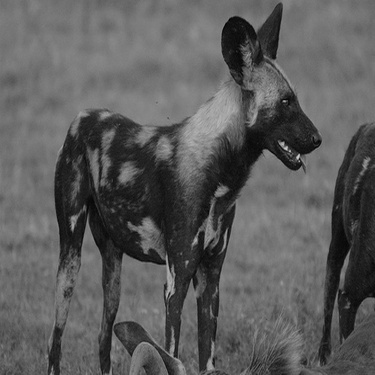dog: (15, 4, 329, 370), (79, 283, 334, 373), (318, 112, 366, 357)
